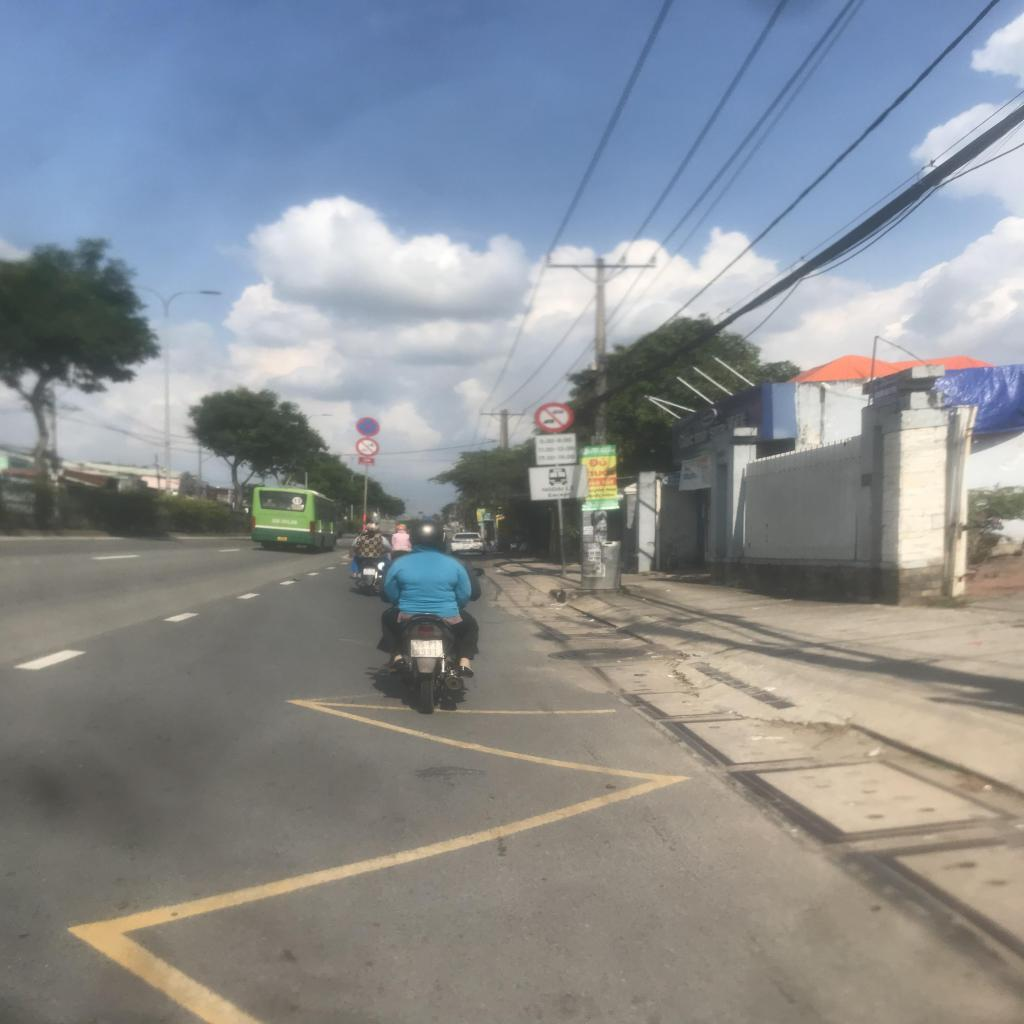cam_dung_xe_va_do_xe: (354, 416, 381, 438)
cam_o_to_tai_va_xe_khach: (533, 402, 576, 434)
cam_xe_2_banh_va_xe_3_banh_co_dong_co: (354, 438, 380, 458)
khac: (529, 464, 589, 499), (534, 434, 578, 464)
